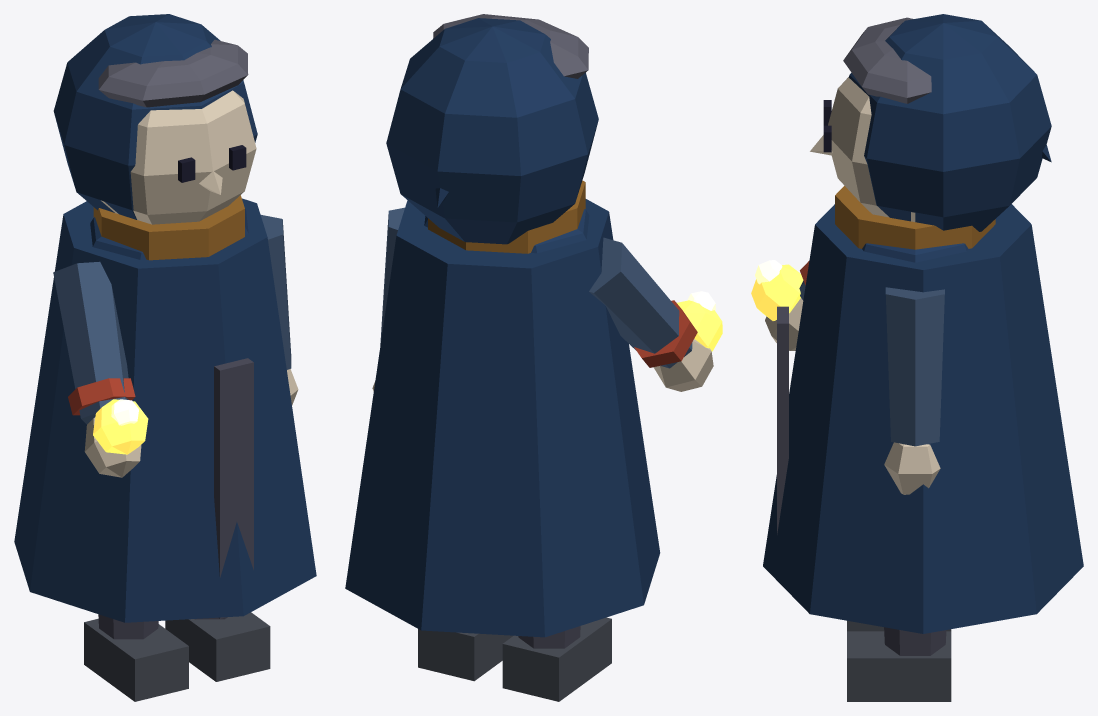
Rendered from wakebearer.glb.
The picture shows the model from 3 angles, left to right: view 1: azimuth 30°, elevation 25°; view 2: azimuth 150°, elevation 25°; view 3: azimuth 270°, elevation 25°; orthographic projection. The views are drawn at different scales.
Parts seen in each view (by area): view 1: Torso, Head, ArmR, LegR, LegL, ArmL; view 2: Torso, Head, ArmR, LegR, LegL, ArmL; view 3: Torso, Head, ArmL, LegL, ArmR.
Boxes of the visible parts, bbox=[...] form: Torso: bbox=[14, 195, 316, 622]; Head: bbox=[53, 14, 257, 224]; ArmR: bbox=[53, 261, 148, 477]; LegR: bbox=[84, 614, 188, 701]; LegL: bbox=[165, 612, 270, 681]; ArmL: bbox=[260, 215, 298, 405]; Torso: bbox=[345, 180, 660, 637]; Head: bbox=[386, 14, 598, 244]; ArmR: bbox=[589, 237, 722, 391]; LegR: bbox=[502, 617, 611, 701]; LegL: bbox=[418, 629, 513, 681]; ArmL: bbox=[372, 207, 404, 391]; Torso: bbox=[763, 186, 1083, 633]; Head: bbox=[810, 14, 1051, 231]; ArmL: bbox=[884, 287, 944, 494]; LegL: bbox=[847, 627, 951, 701]; ArmR: bbox=[751, 260, 809, 350].
Bounding box in the file's own units: 0.8058 × 1.77 × 0.8292.
